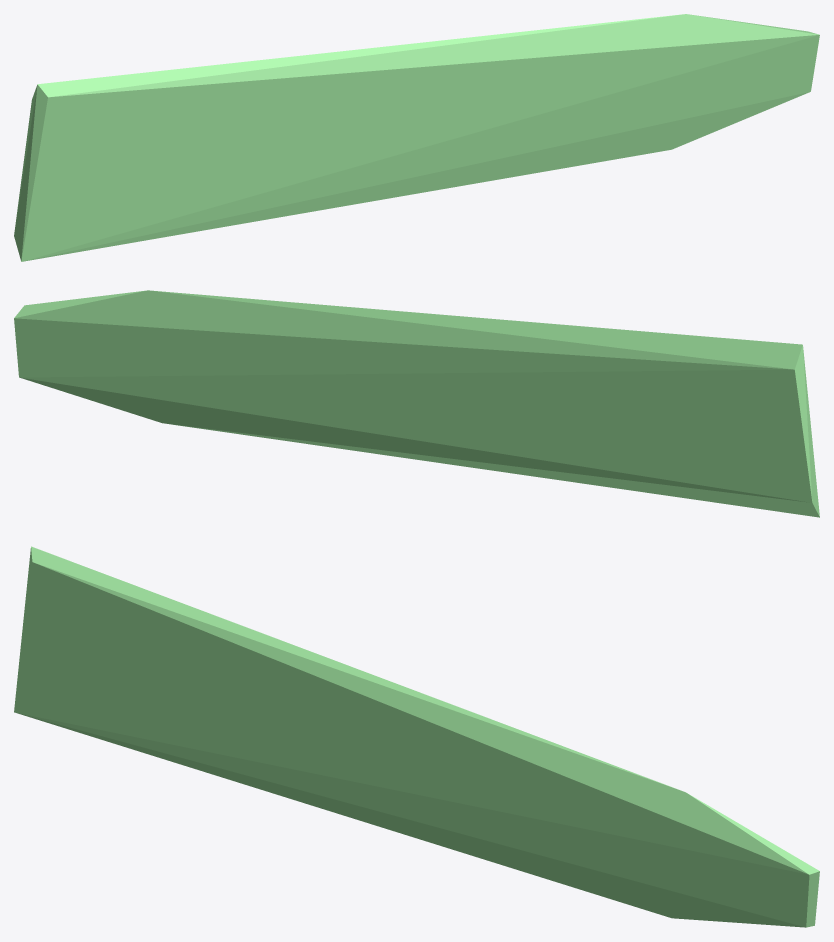
File: UMIRobot_UMIRobot_link_4_convex_coll_19.dae
3 views of the same model, one above another, from view 1: azimuth 30°, elevation 25°; view 2: azimuth 150°, elevation 25°; view 3: azimuth 330°, elevation 25° (orthographic). The views are drawn at different scales.
Parts seen in each view (by area): view 1: node; view 2: node; view 3: node.
Part boxes in pixels (bbox=[...]): node: bbox=[14, 14, 819, 261]; node: bbox=[14, 290, 819, 517]; node: bbox=[14, 546, 819, 927].
Size of the model in its own units: 0.1204 by 0.0329 by 0.00608.
